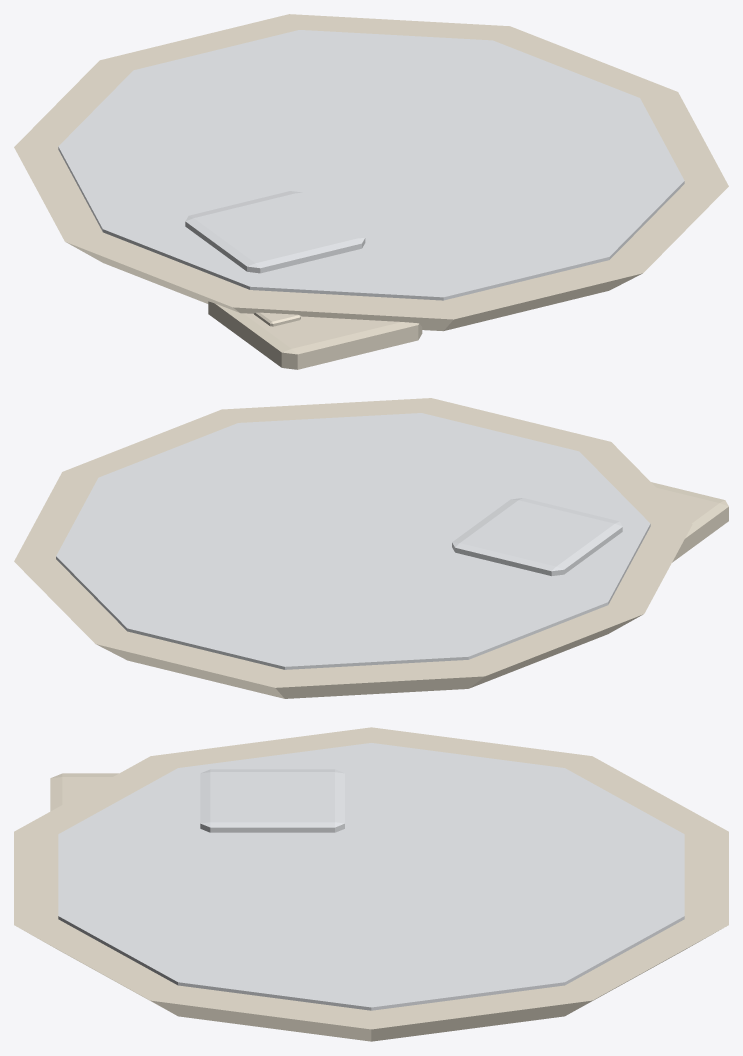
The model's file is b17_flying_disc.glb.
3 renders of one model, top to bottom at view 1: azimuth 30°, elevation 25°; view 2: azimuth 150°, elevation 25°; view 3: azimuth 270°, elevation 25°, orthographic. The views are drawn at different scales.
Parts seen in each view (by area): view 1: b17_flying_disc; view 2: b17_flying_disc; view 3: b17_flying_disc.
Part boxes in pixels (x1,y1,x2,y2): b17_flying_disc: (14, 14, 728, 369); b17_flying_disc: (14, 398, 728, 698); b17_flying_disc: (14, 727, 728, 1041).
Size of the model in its own units: 0.252 by 0.016 by 0.252.
